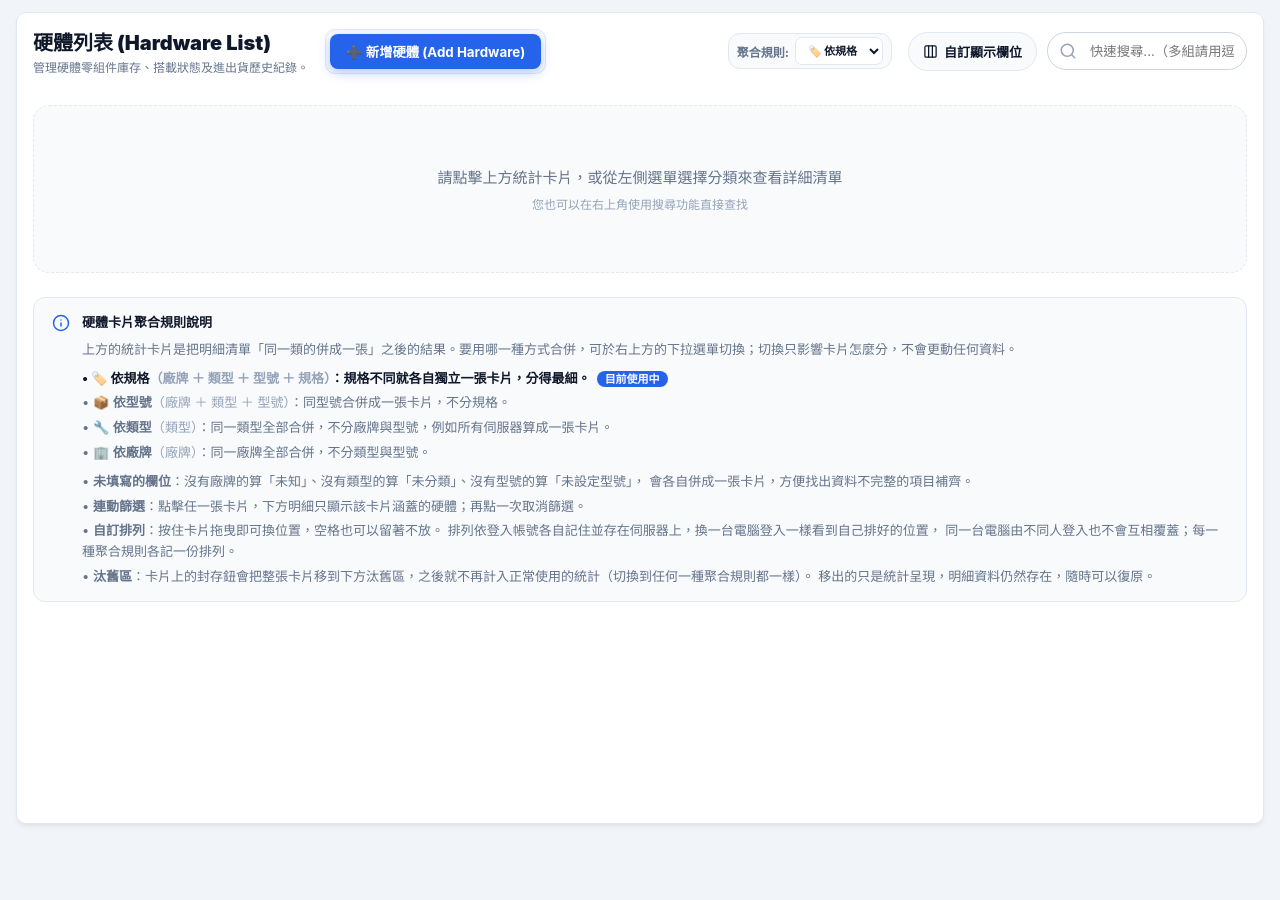
Scenario: 列表在狀態底下顯示借用單號 › 同一品項掛在多張借用單上時一併列出
Type "TESTBRAND" into the field with placeholder "快速搜尋...（多組請用逗號分隔）" at point(1147, 51), box x1=1047 y1=32 x2=1247 y2=70
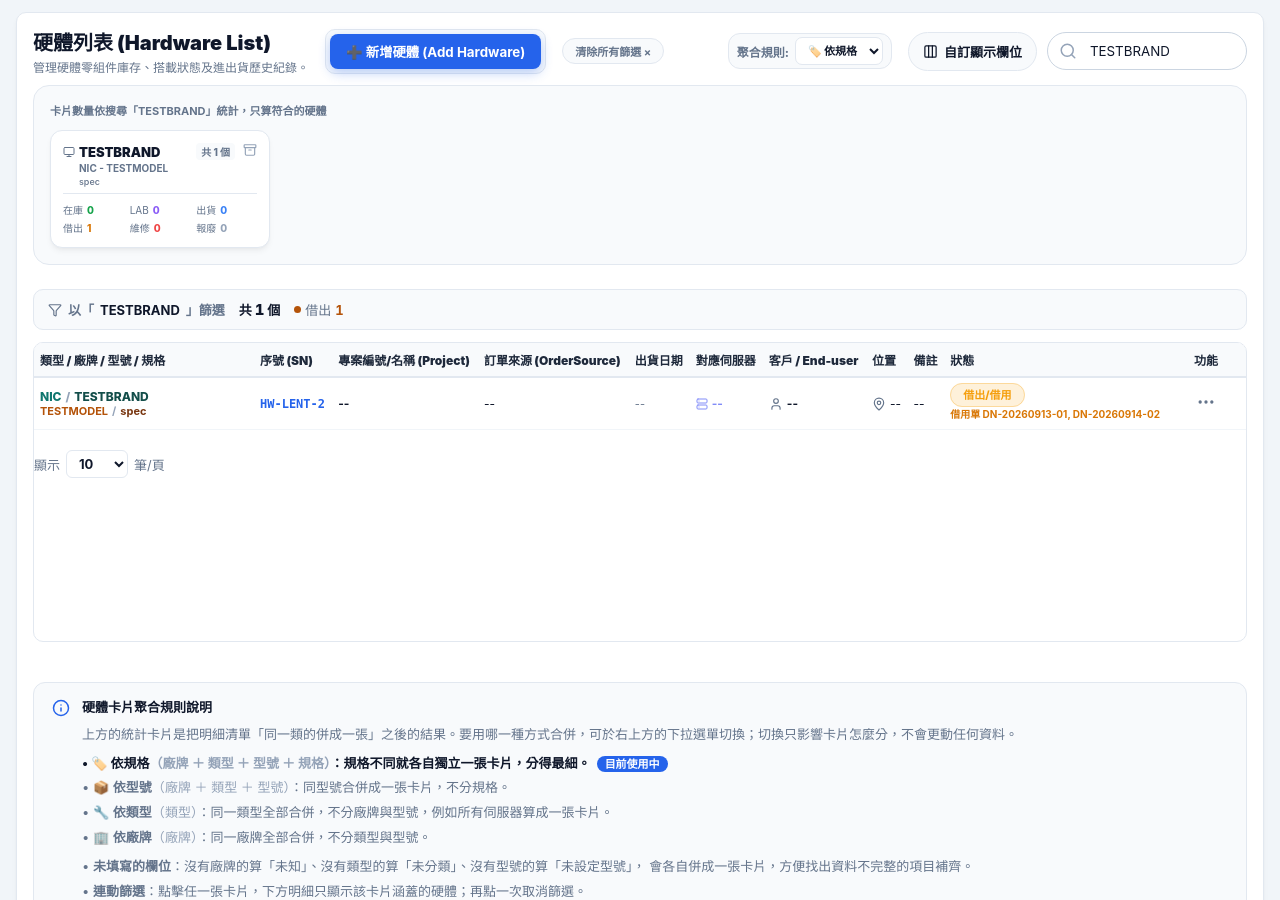
Expected: the text "HW-LENT-2" is shown, x1=254 y1=377 x2=332 y2=430
Expected: the text "借用單 DN-20260913-01, DN-20260914-02" is shown, x1=950 y1=406 x2=1160 y2=421
